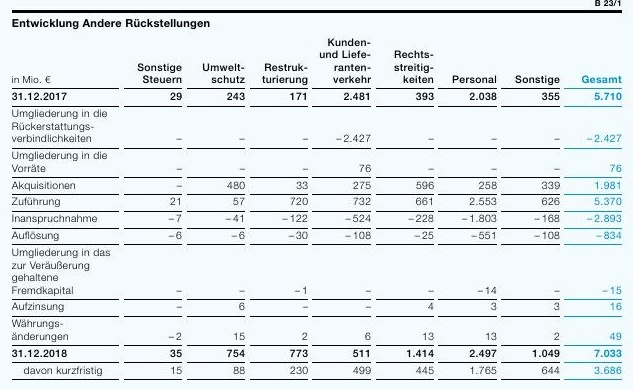table: (0, 0, 633, 389)
